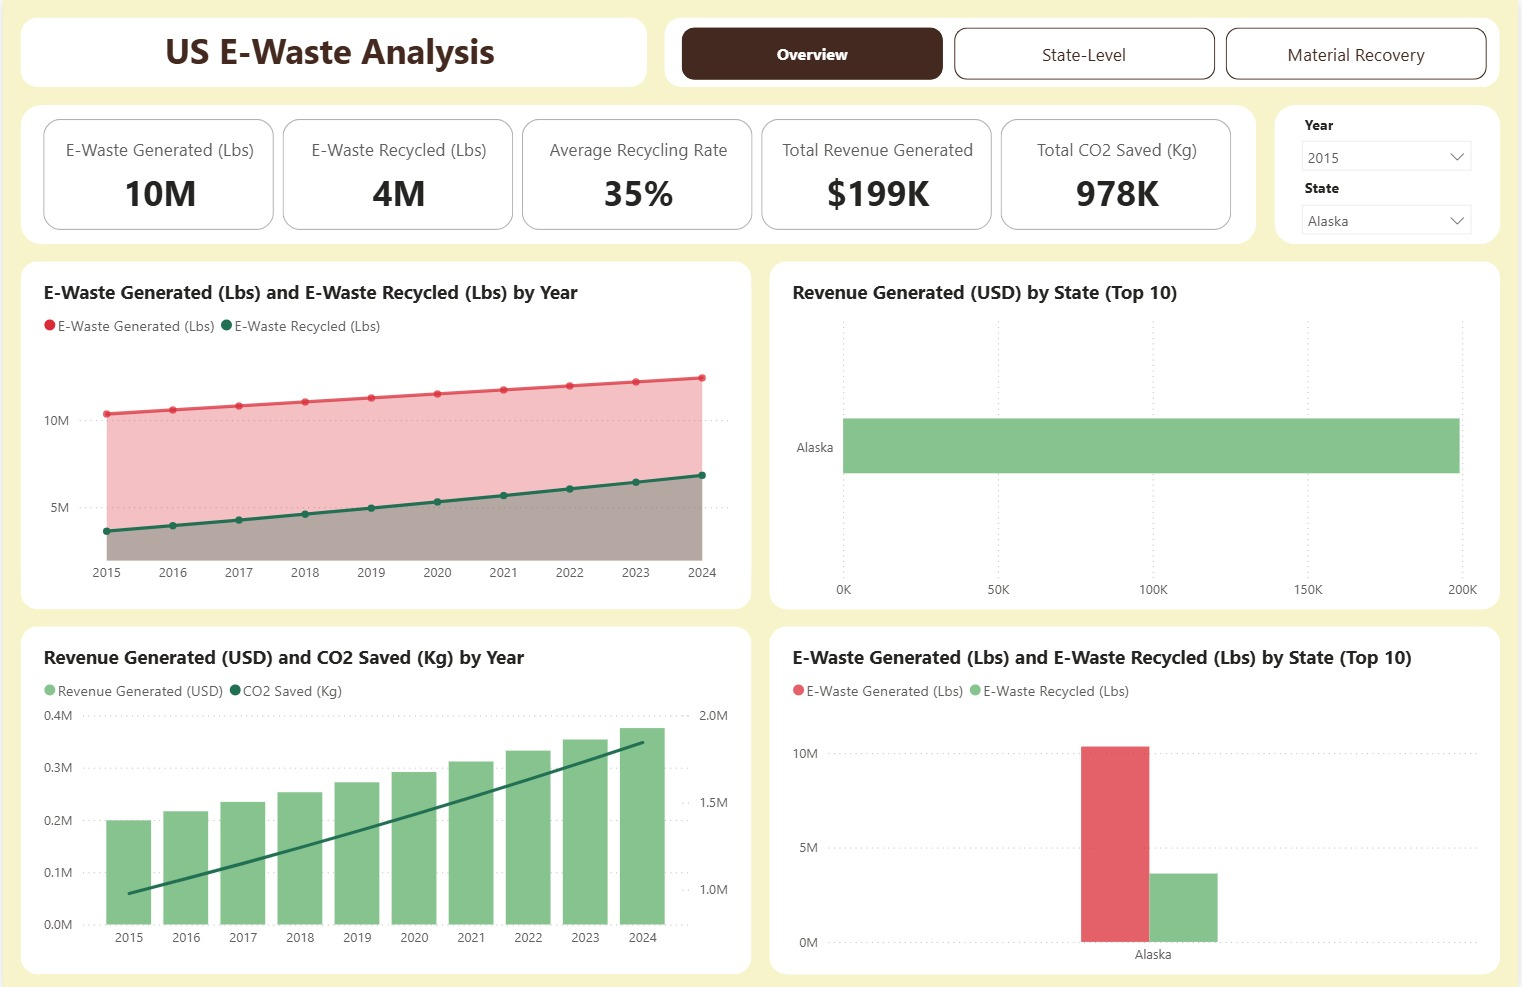

Layout of this report page (visuals, bound fields, positions):
{"tool":"powerbi","page":{"name":"Overview","canvas":[1392,910],"ordinal":0},"visuals":[{"type":"shape","box":[704,576,672,320],"z":0},{"type":"shape","box":[704,240,672,320],"z":1000},{"type":"shape","box":[16,576,672,320],"z":2000},{"type":"shape","box":[16,240,672,320],"z":3000},{"type":"shape","box":[1168,96,208,128],"z":4000},{"type":"shape","box":[608,16,768,64],"z":5000},{"type":"shape","box":[16,96,1136,128],"z":6000},{"type":"shape","box":[16,16,576,64],"z":7000},{"type":"cardVisual","fields":{"Data":["Measure.Total E-Waste Generated","Measure.Total Recycled","Measure.Average Recycling Rate","Measure.Total Revenue Generated","Measure.Total CO2 Saved"]},"box":[32,105,1106,112],"z":8000},{"type":"lineChart","title":"E-Waste Generated (Lbs) and E-Waste Recycled (Lbs) by Year","fields":{"Category":["ReBinTech_US_Ewaste_StateModeled_2015_2024.Year"],"Y":["Sum(ReBinTech_US_Ewaste_StateModeled_2015_2024.E_Waste_Generated_Lbs)","Sum(ReBinTech_US_Ewaste_StateModeled_2015_2024.E_Waste_Recycled_Lbs)"]},"box":[32,256,640,288],"z":9000},{"type":"clusteredColumnChart","title":"E-Waste Generated (Lbs) and E-Waste Recycled (Lbs) by State (Top 10)","fields":{"Y":["Sum(ReBinTech_US_Ewaste_StateModeled_2015_2024.E_Waste_Generated_Lbs)","Sum(ReBinTech_US_Ewaste_StateModeled_2015_2024.E_Waste_Recycled_Lbs)"],"Category":["ReBinTech_US_Ewaste_StateModeled_2015_2024.State"]},"box":[720,592,640,304],"z":10000},{"type":"lineStackedColumnComboChart","title":"Revenue Generated (USD) and CO2 Saved (Kg) by Year","fields":{"Category":["ReBinTech_US_Ewaste_StateModeled_2015_2024.Year"],"Y":["Sum(ReBinTech_US_Ewaste_StateModeled_2015_2024.Revenue_Generated_USD)"],"Y2":["Sum(ReBinTech_US_Ewaste_StateModeled_2015_2024.CO2_Saved_kg)"]},"box":[32,592,640,288],"z":11000},{"type":"barChart","title":"Revenue Generated (USD) by State (Top 10)","fields":{"Category":["ReBinTech_US_Ewaste_StateModeled_2015_2024.State"],"Y":["Sum(ReBinTech_US_Ewaste_StateModeled_2015_2024.Revenue_Generated_USD)"]},"box":[720,256,640,304],"z":12000},{"type":"textbox","box":[144,16,320,64],"z":13000},{"type":"pageNavigator","box":[624,25,740,48],"z":14000},{"type":"slicer","fields":{"Values":["ReBinTech_US_Ewaste_StateModeled_2015_2024.Year"]},"box":[1184,100,176,64],"z":15000},{"type":"slicer","fields":{"Values":["ReBinTech_US_Ewaste_StateModeled_2015_2024.State"]},"box":[1184,159,176,60],"z":16000}]}

Visuals, with their boxes in screenshot pixels (x1, y1, x2, y2), scaled from the page's 1392x910 canvas onto the 1522x987 screenshot:
shape: <bbox>770, 625, 1505, 972</bbox>
shape: <bbox>770, 260, 1505, 607</bbox>
shape: <bbox>17, 625, 752, 972</bbox>
shape: <bbox>17, 260, 752, 607</bbox>
shape: <bbox>1277, 104, 1505, 243</bbox>
shape: <bbox>665, 17, 1505, 87</bbox>
shape: <bbox>17, 104, 1260, 243</bbox>
shape: <bbox>17, 17, 647, 87</bbox>
cardVisual - Measure.Total E-Waste Generated x Measure.Total Recycled: <bbox>35, 114, 1244, 235</bbox>
"E-Waste Generated (Lbs) and E-Waste Recycled (Lbs) by Year" lineChart: <bbox>35, 278, 735, 590</bbox>
"E-Waste Generated (Lbs) and E-Waste Recycled (Lbs) by State (Top 10)" clusteredColumnChart: <bbox>787, 642, 1487, 972</bbox>
"Revenue Generated (USD) and CO2 Saved (Kg) by Year" lineStackedColumnComboChart: <bbox>35, 642, 735, 954</bbox>
"Revenue Generated (USD) by State (Top 10)" barChart: <bbox>787, 278, 1487, 607</bbox>
textbox: <bbox>157, 17, 507, 87</bbox>
pageNavigator: <bbox>682, 27, 1491, 79</bbox>
slicer - ReBinTech_US_Ewaste_StateModeled_2015_2024.Year: <bbox>1295, 108, 1487, 178</bbox>
slicer - ReBinTech_US_Ewaste_StateModeled_2015_2024.State: <bbox>1295, 172, 1487, 238</bbox>
